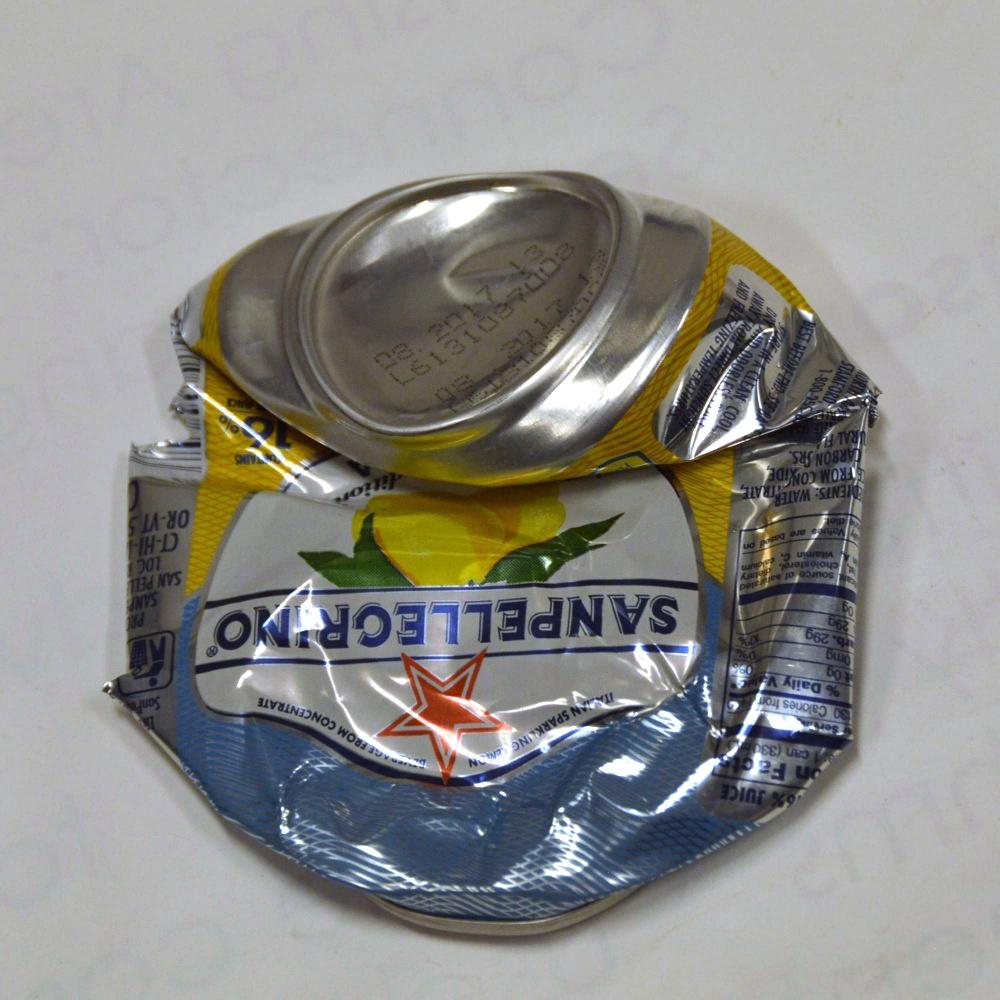Metal: (61, 173, 886, 922)
